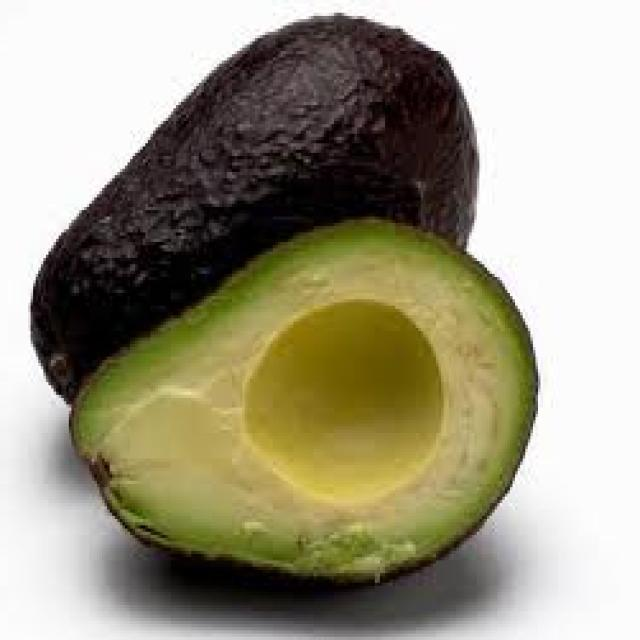Avocado: (59, 200, 556, 602)
